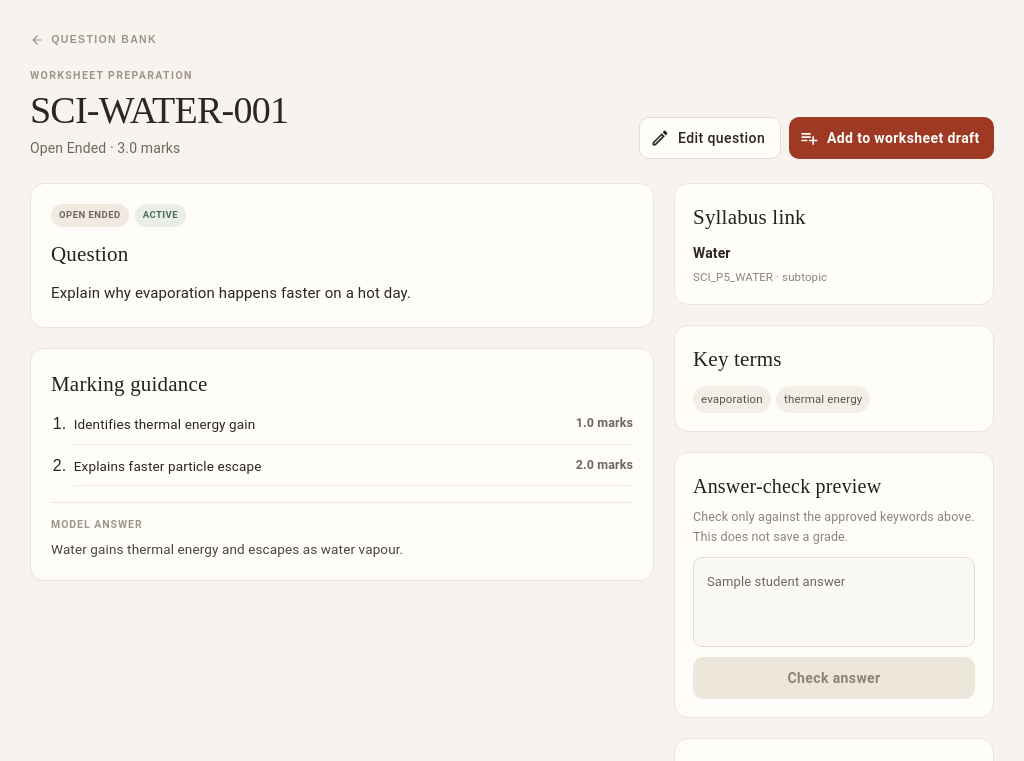
Test: QuestionDetail › provides accessible edit and local worksheet-draft selection actions
The image size is (1024, 761).
Click the button "Add to worksheet draft". click: (891, 138)
box: [788,117,994,159]
(page scrolled)
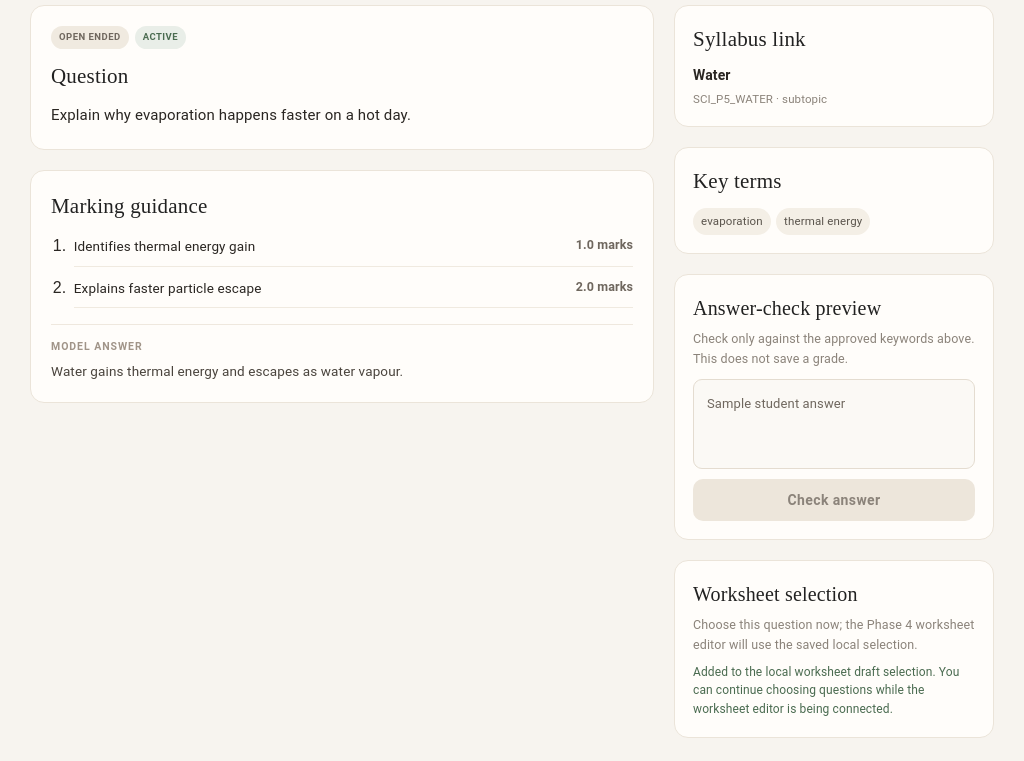
Expected: the message shows "Added to the local worksheet draft selection", [693,665,960,716]
